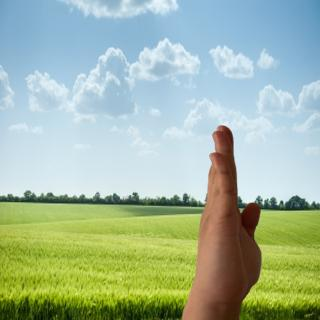RIGHT: (178, 123, 276, 314)
